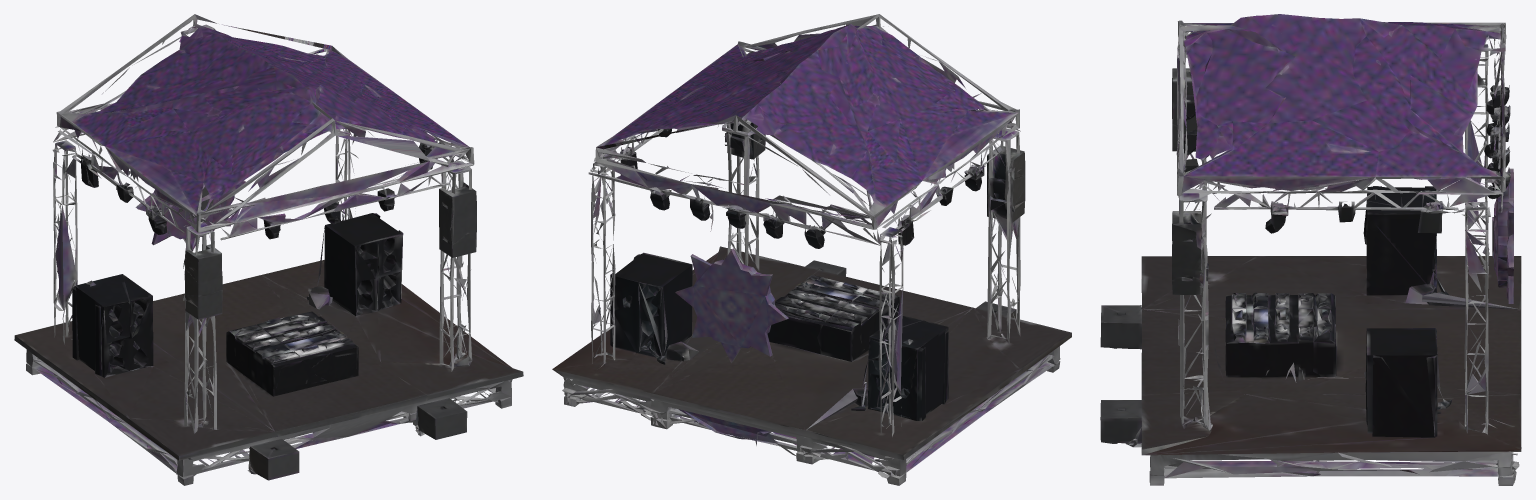
File: goa_stage.glb
3 views of the same model, side by side, from view 1: azimuth 30°, elevation 25°; view 2: azimuth 150°, elevation 25°; view 3: azimuth 270°, elevation 25° (orthographic). The views are drawn at different scales.
Size of the model in its own units: 1.9 by 1.73 by 1.74.
Materials: 1 (1 with a texture image).
